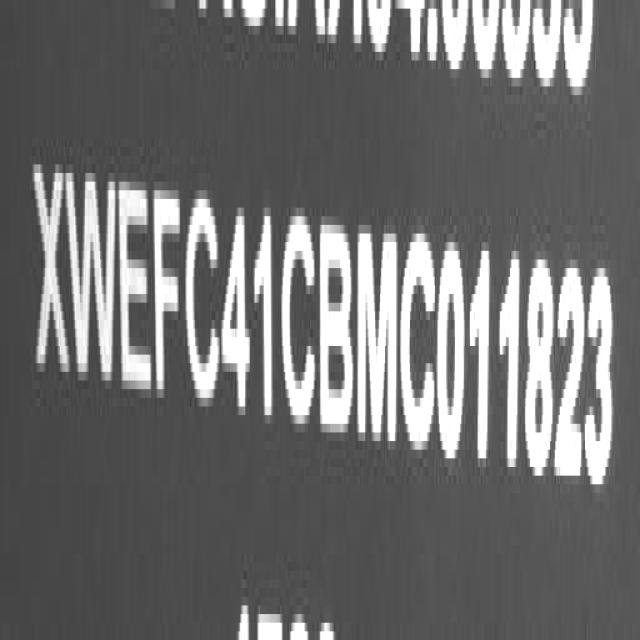0: (438, 232, 468, 468)
1: (498, 237, 523, 479), (468, 238, 489, 476), (256, 196, 277, 432)
2: (556, 255, 586, 492)
3: (588, 260, 617, 494)
4: (220, 203, 252, 429)
8: (525, 246, 555, 481)
B: (318, 211, 354, 445)
C: (400, 226, 438, 460), (283, 204, 319, 437), (189, 183, 223, 414)
E: (119, 173, 153, 406)
F: (154, 176, 184, 410)
M: (359, 219, 403, 456)
W: (70, 151, 118, 399)
X: (35, 153, 69, 394)
